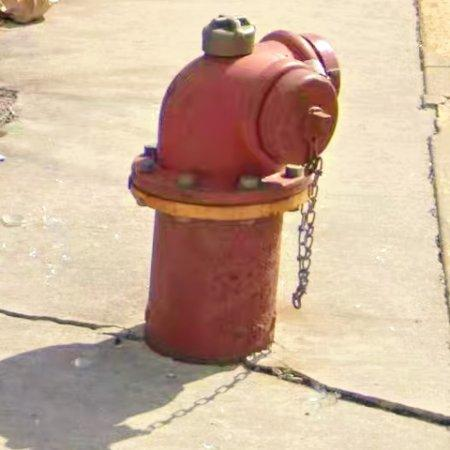a fire hydrant: (129, 17, 340, 364)
